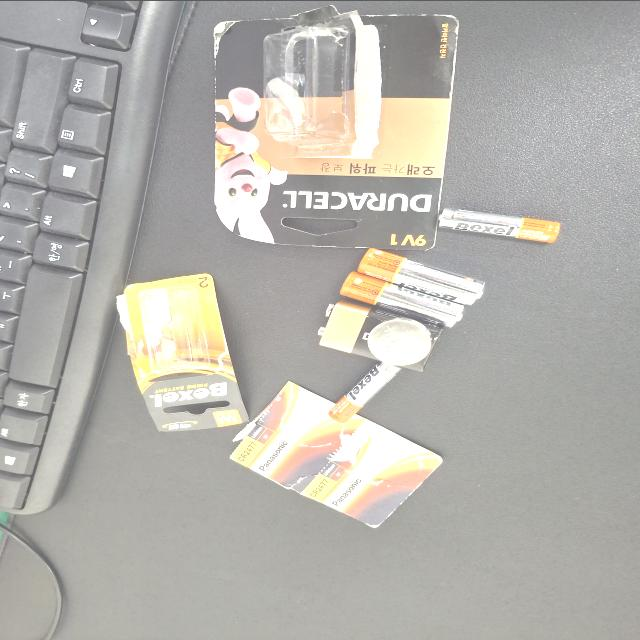9V: (358, 399, 454, 493)
AA: (448, 428, 524, 522), (418, 416, 492, 508)
AAA: (290, 406, 370, 462), (532, 489, 576, 580)
COIN: (366, 436, 432, 485)
